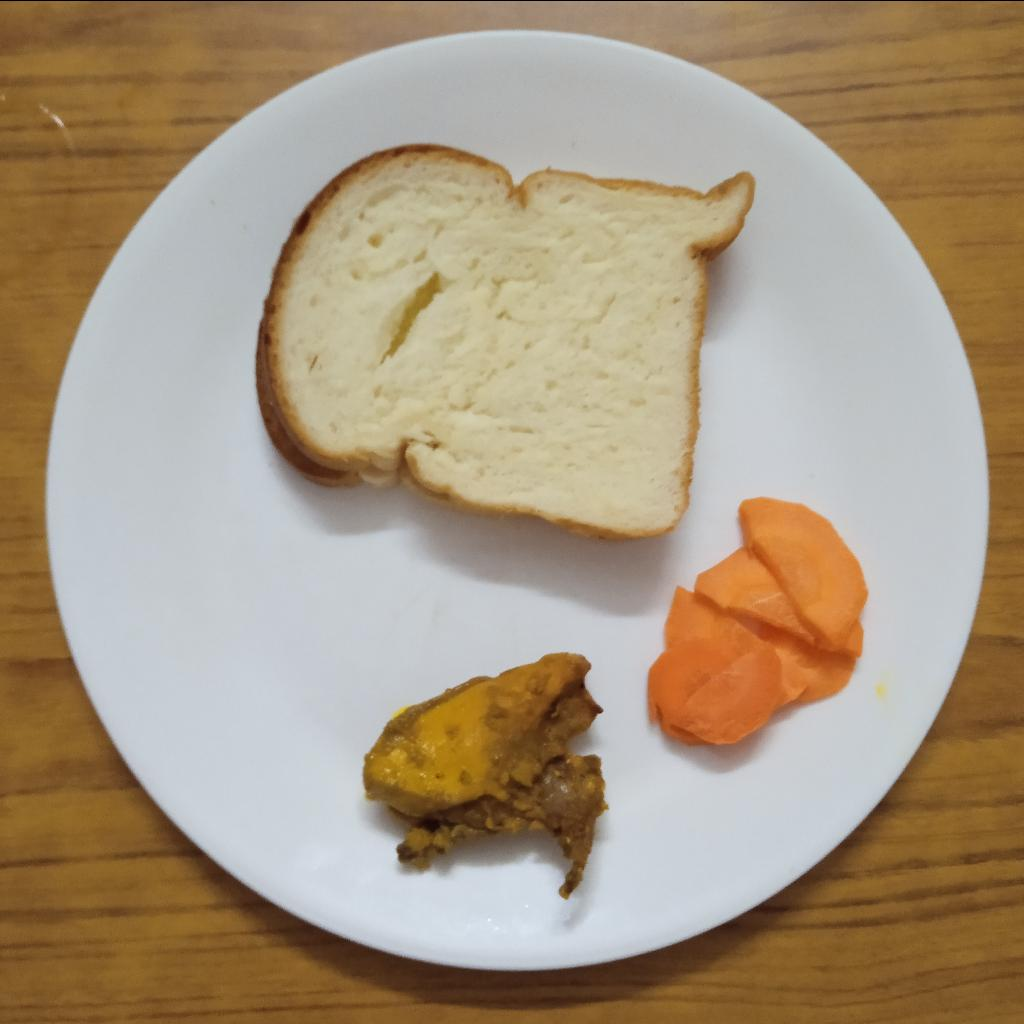bread: (257, 143, 752, 542)
carrot: (644, 498, 866, 751)
chicken: (362, 654, 604, 897)
